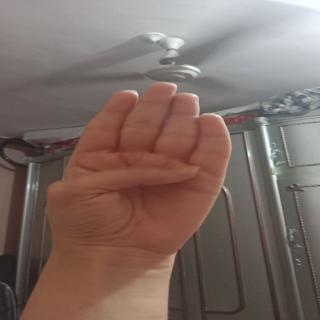KAAF: (46, 77, 248, 254)
